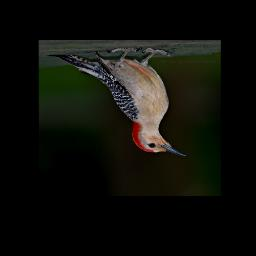Woodpecker: (47, 47, 189, 159)
